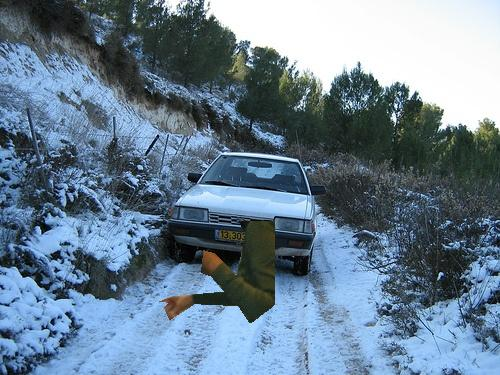tampered: (160, 222, 275, 323)
